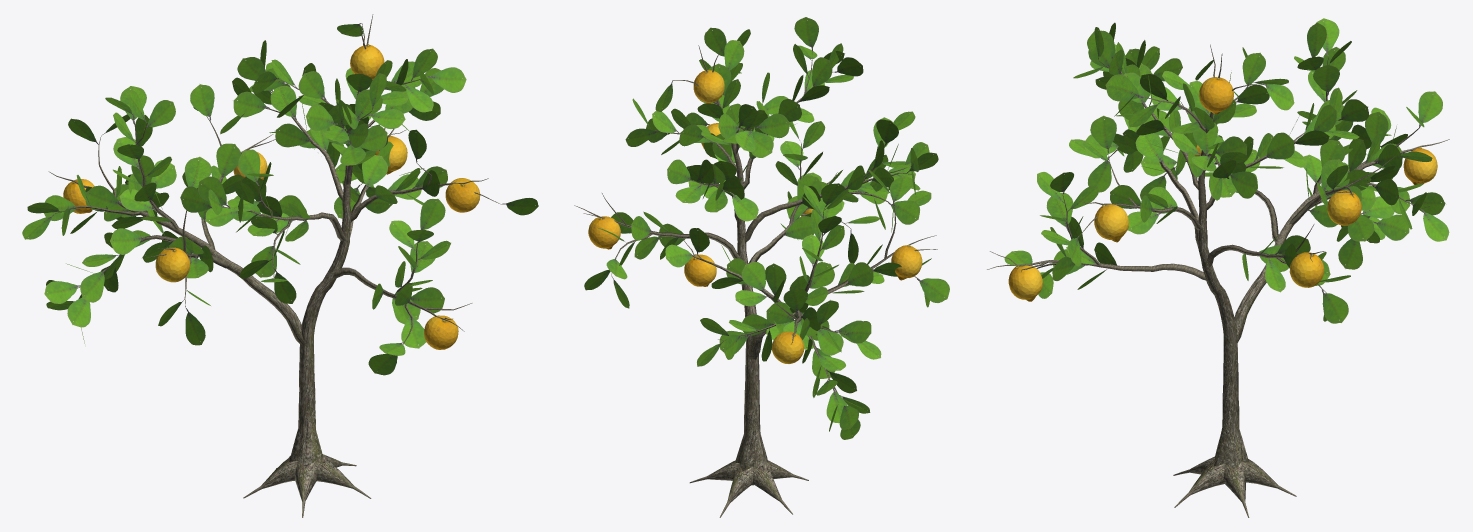
File: Better_Tree_Alone_IFSUPPORTED.fbx
3 views of the same model, side by side, from view 1: azimuth 30°, elevation 25°; view 2: azimuth 150°, elevation 25°; view 3: azimuth 270°, elevation 25° (orthographic). The views are drawn at different scales.
Visible parts, largest first — view 1: structure.008; view 2: structure.008; view 3: structure.008.
Boxes of the visible parts, x1=… form: structure.008: x1=22, y1=14, x2=538, y2=517; structure.008: x1=574, y1=17, x2=949, y2=517; structure.008: x1=987, y1=18, x2=1449, y2=517.
Bounding box in the file's own units: 102 × 125 × 112.
